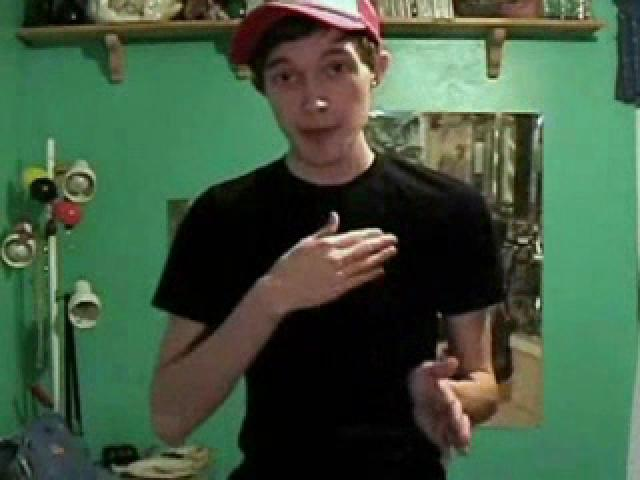F: (136, 6, 500, 478)
